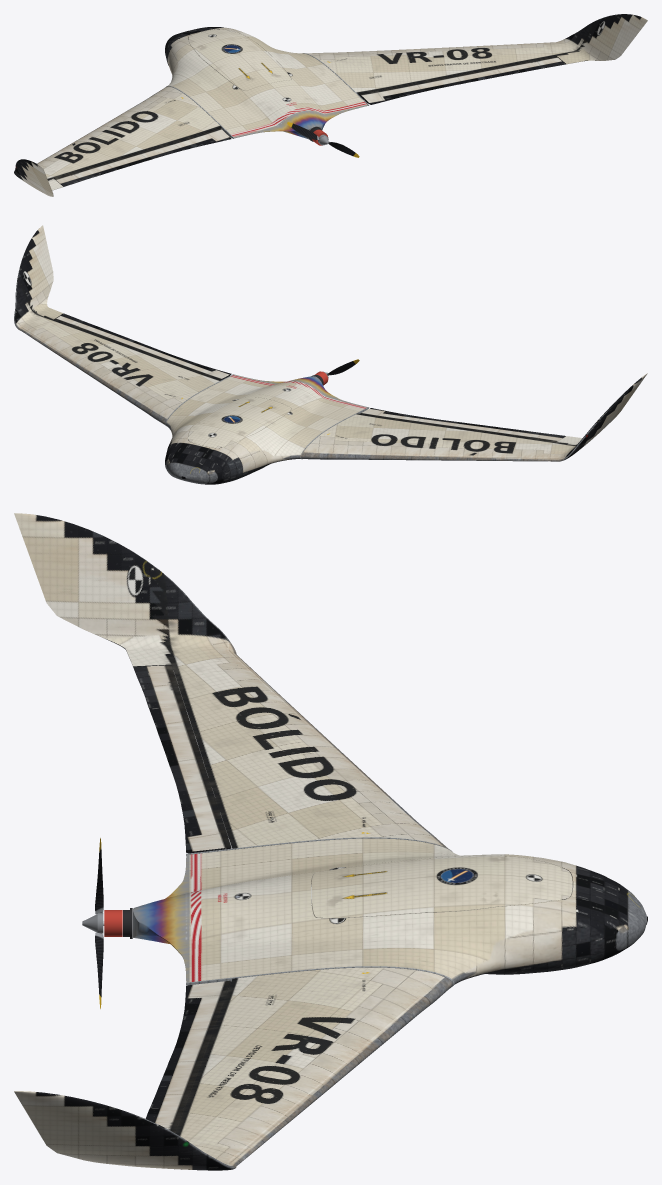
File: skywalker_x8_bolido.glb
3 views of the same model, one above another, from view 1: azimuth 30°, elevation 25°; view 2: azimuth 150°, elevation 25°; view 3: azimuth 270°, elevation 25° (orthographic). The views are drawn at different scales.
Visible parts, largest first — view 1: fuselage_core, wing_right_fixed, wing_left_fixed, canopy_hatch, elevon_right, elevon_left, propeller_rotor; view 2: fuselage_core, wing_right_fixed, wing_left_fixed, canopy_hatch, elevon_right, elevon_left; view 3: fuselage_core, wing_left_fixed, wing_right_fixed, canopy_hatch, elevon_left, elevon_right, propeller_rotor.
Part boxes in pixels (left/top/right/bottom): fuselage_core: left=165, top=27, right=368, bottom=139; wing_right_fixed: left=303, top=14, right=647, bottom=105; wing_left_fixed: left=14, top=86, right=234, bottom=196; canopy_hatch: left=188, top=29, right=291, bottom=90; elevon_right: left=359, top=56, right=565, bottom=104; elevon_left: left=54, top=128, right=231, bottom=186; propeller_rotor: left=287, top=122, right=359, bottom=157; fuselage_core: left=165, top=374, right=367, bottom=484; wing_right_fixed: left=14, top=225, right=233, bottom=425; wing_left_fixed: left=300, top=373, right=647, bottom=461; canopy_hatch: left=188, top=397, right=291, bottom=448; elevon_right: left=54, top=313, right=231, bottom=380; elevon_left: left=360, top=408, right=565, bottom=442; fuselage_core: left=133, top=838, right=647, bottom=984; wing_left_fixed: left=14, top=513, right=452, bottom=855; wing_right_fixed: left=14, top=966, right=454, bottom=1170; canopy_hatch: left=311, top=855, right=572, bottom=918; elevon_left: left=133, top=665, right=231, bottom=853; elevon_right: left=145, top=980, right=231, bottom=1133; propeller_rotor: left=82, top=838, right=122, bottom=1008.
Bounding box in the file's own units: 2.12 × 0.2961 × 0.9811.
Materials: 9 (1 with a texture image).
